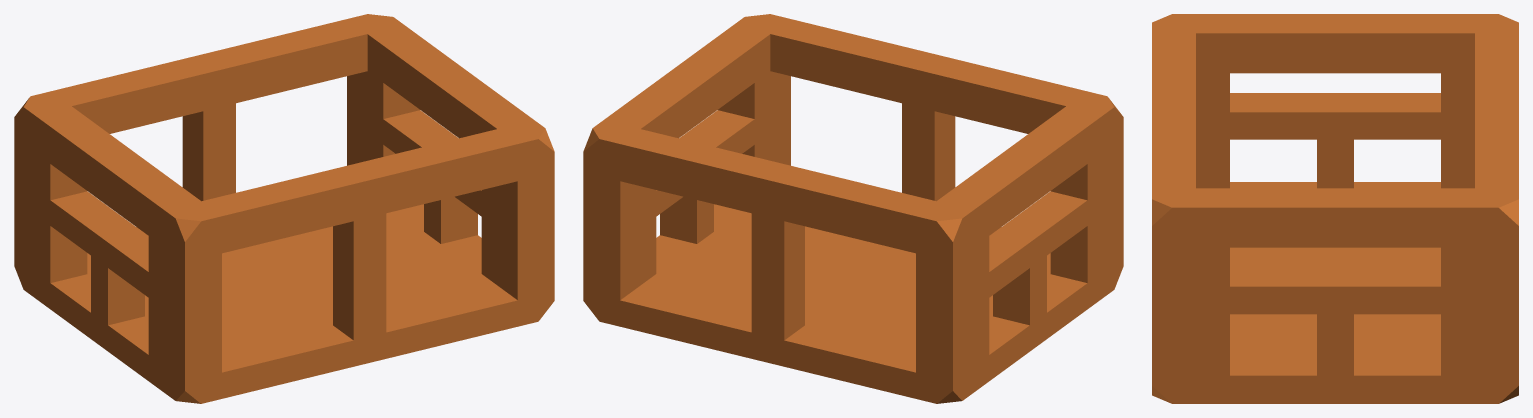
The model's file is kasa.glb.
3 renders of one model, left to right at view 1: azimuth 30°, elevation 25°; view 2: azimuth 150°, elevation 25°; view 3: azimuth 270°, elevation 25°, orthographic. The views are drawn at different scales.
Parts seen in each view (by area): view 1: kasa; view 2: kasa; view 3: kasa.
Part boxes in pixels (<box>): kasa: <box>14,14,554,403</box>; kasa: <box>583,14,1123,403</box>; kasa: <box>1152,14,1518,403</box>.
Size of the model in its own units: 0.5 by 0.26 by 0.4.
